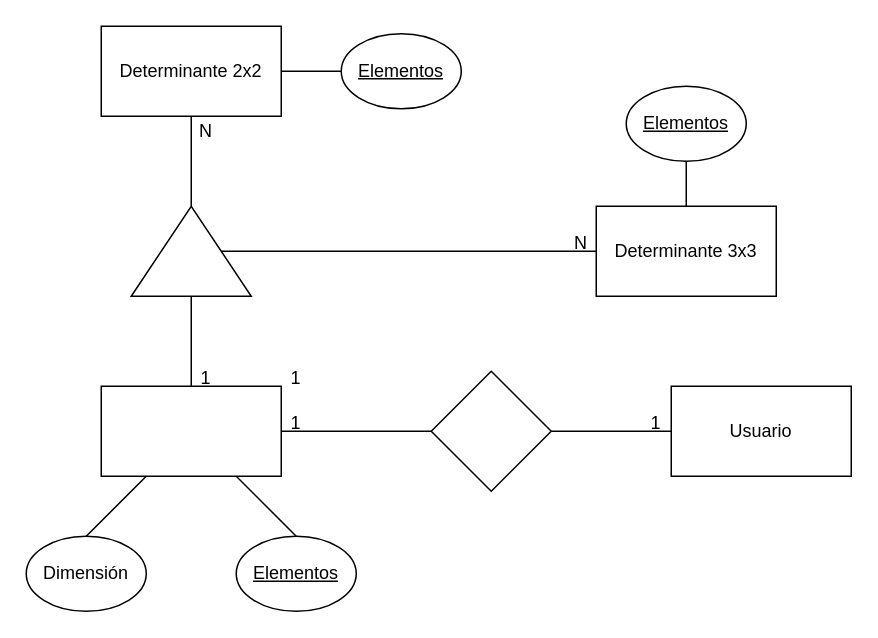
Some shapes in this 878 by 638 pixel diagram are drawn without their labels. The centre of each missing label's shape, as x and y in pixels:
"Matriz" belongs at pixel 190 430.
"Registra" belongs at pixel 490 430.
"Subdivide" belongs at pixel 190 250.
